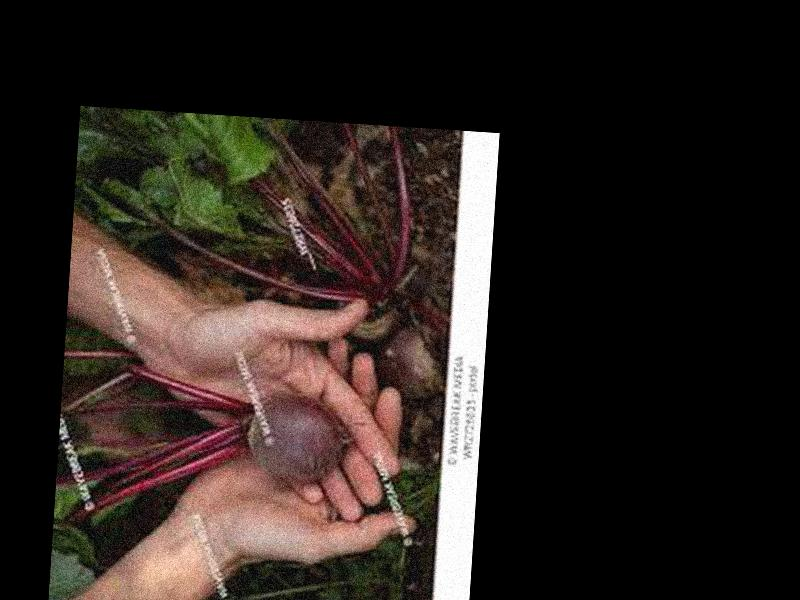Beet: (62, 359, 357, 545)
